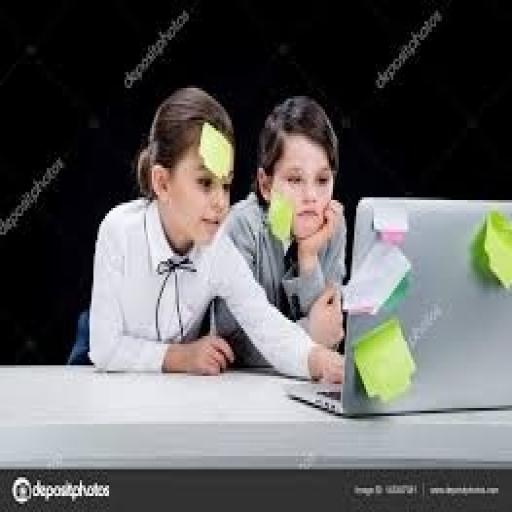using_laptop: (282, 192, 510, 419)
